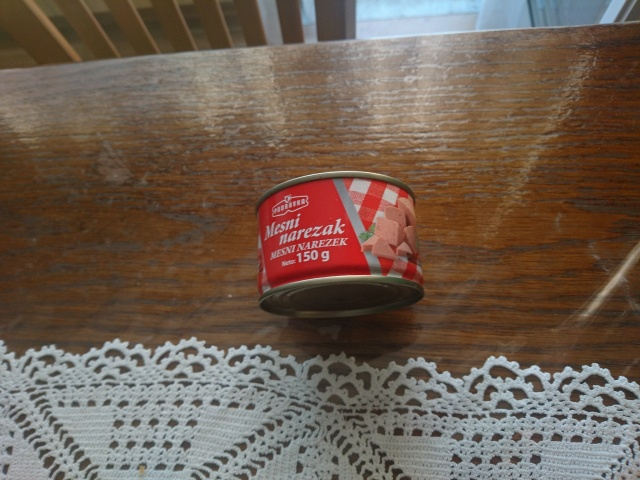Podravka Luncheon Meat 150g: (251, 168, 427, 322)
